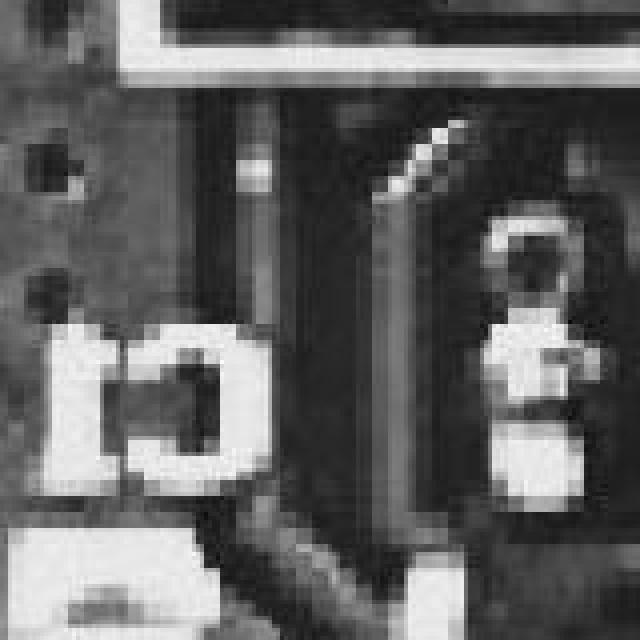IC: (420, 420, 640, 640)
capacitor: (20, 572, 216, 640)
clock: (168, 0, 640, 64)
